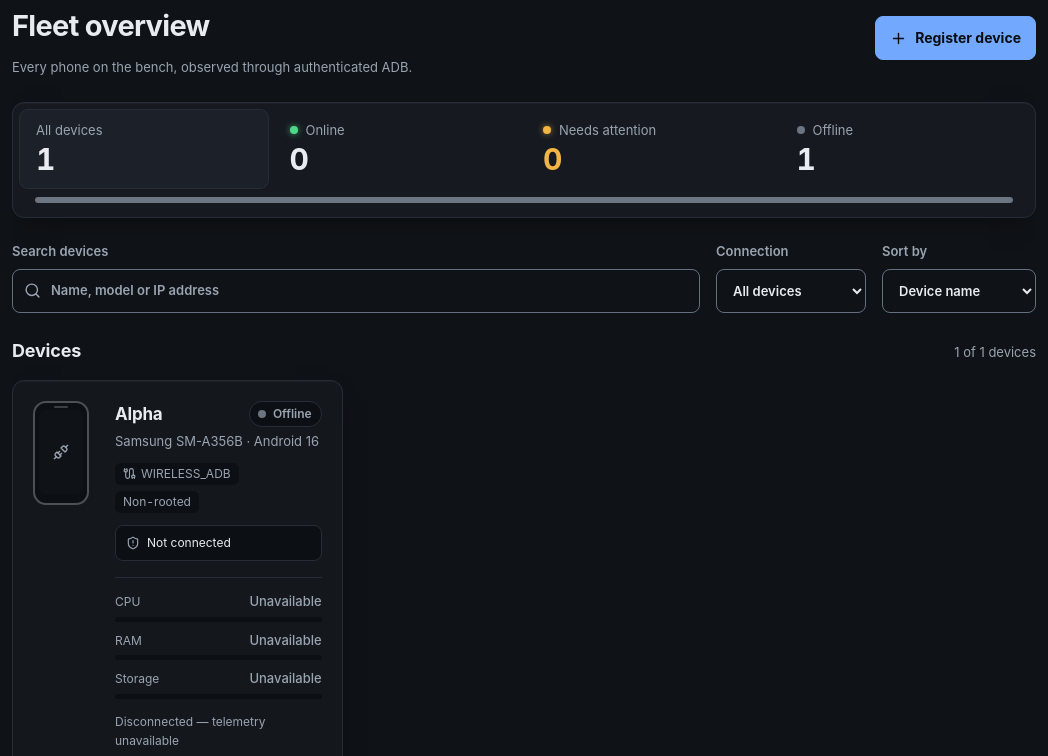
Test: fleet › renders disconnected values unavailable and supports live search
Expected: the heading "Alpha" is shown, [115,403,162,425]
Expected: the text "Disconnected — telemetry unavailable" is shown, [115,714,266,748]
Type "absent" into the search field with placeholder "Name, model or IP address" at x=356, y=291, box [12,269,700,313]
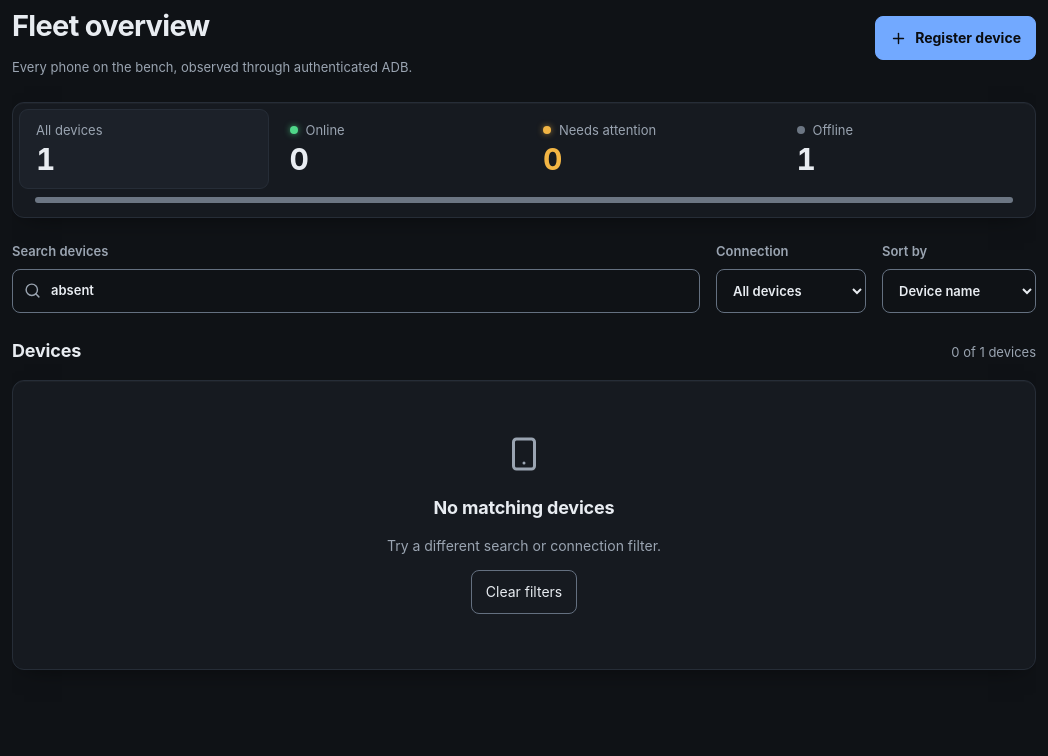
Expected: the heading "No matching devices" is shown, [434,497,614,518]
Click the button "Clear filters" at x=524, y=592, box [471,570,577,614]
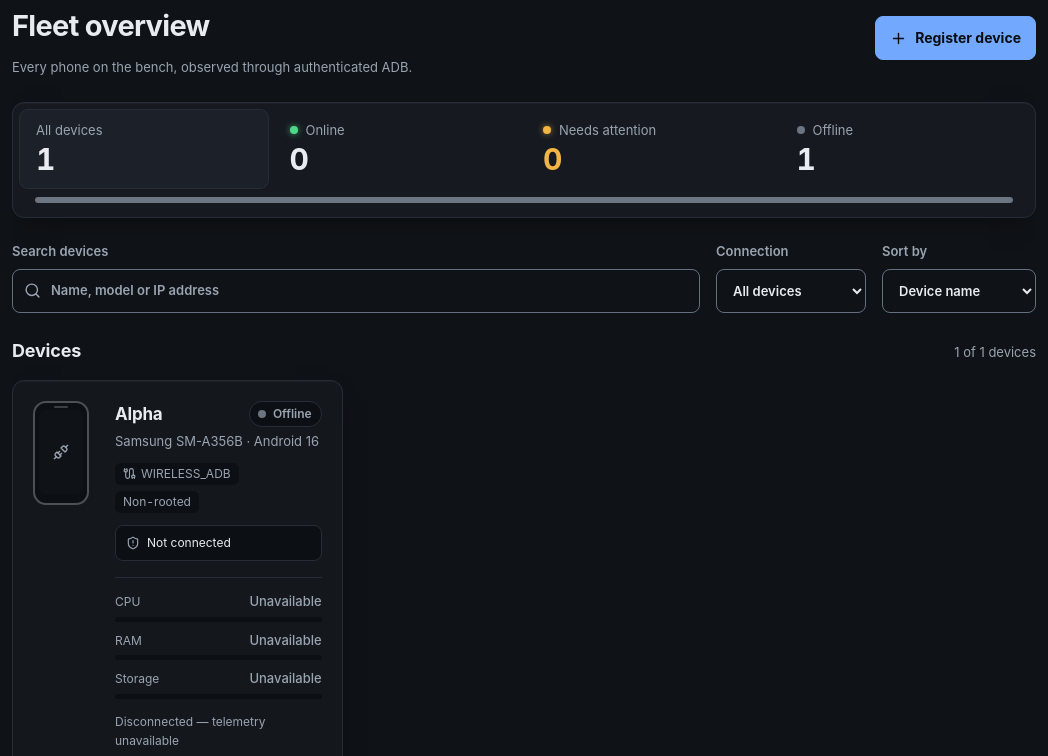
Expected: the heading "Alpha" is shown, [115,403,162,425]
Expected: the search field labelled "Search devices" is empty, [12,269,700,313]
